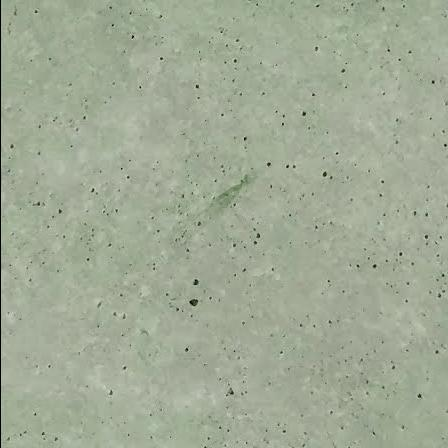spalling: (220, 383, 238, 403), (184, 296, 199, 309)
